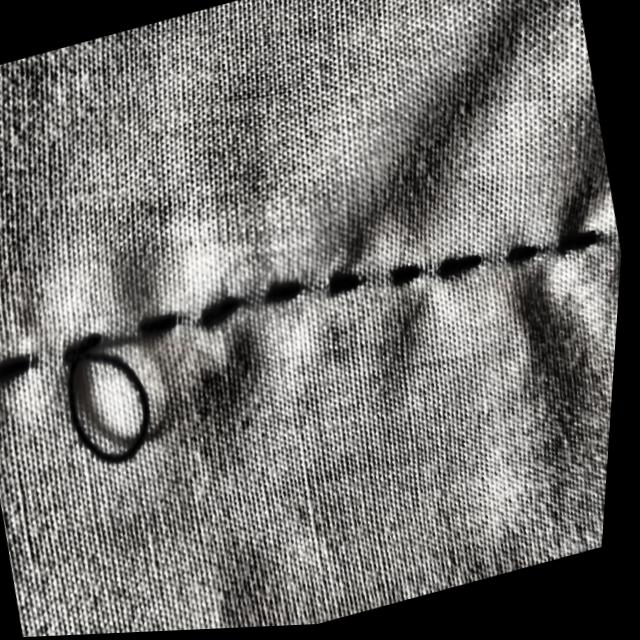Stitch: (23, 281, 178, 520)
